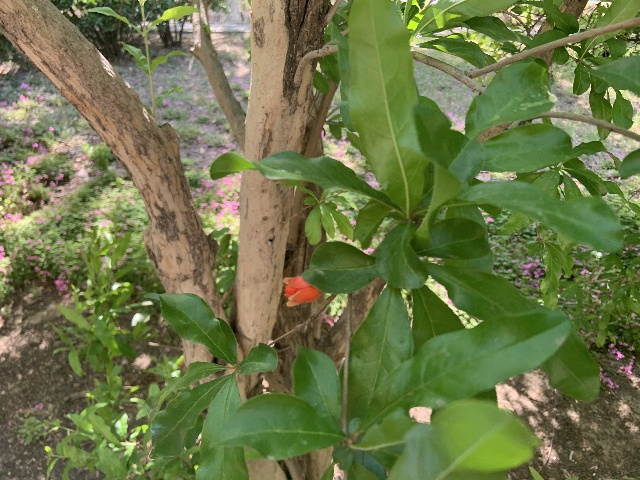flower: (283, 275, 322, 306)
